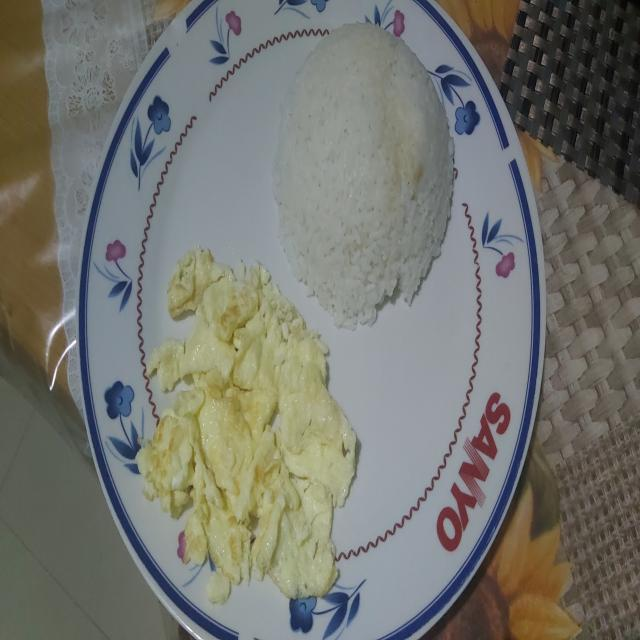Chicken -Chicken Inasal-: (273, 18, 457, 317)
